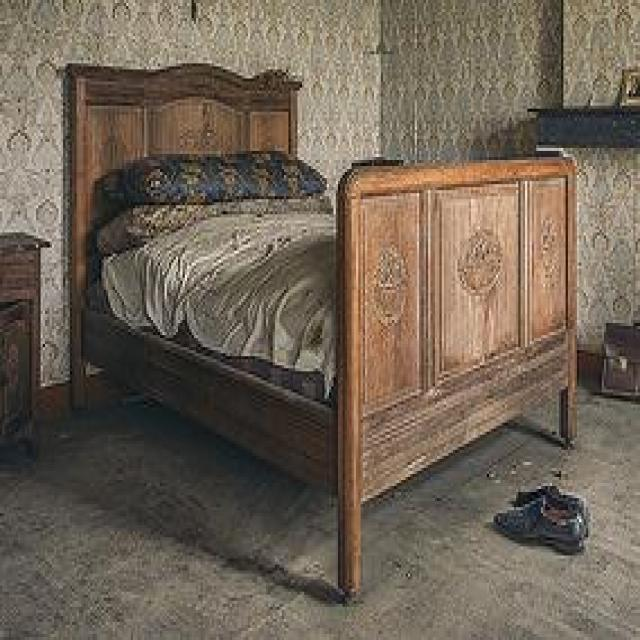bed: (61, 60, 579, 598)
